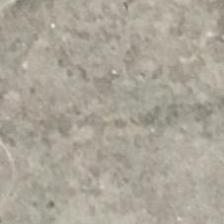Non_Crack: (20, 38, 216, 210)
